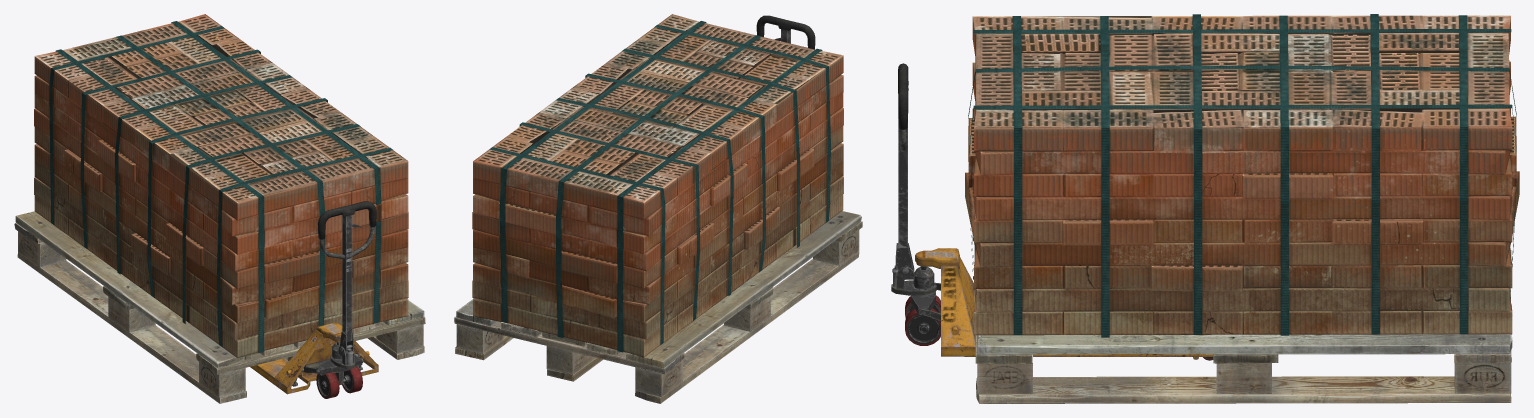
Rendered from XeGach.fbx.
The picture shows the model from 3 angles, left to right: view 1: azimuth 30°, elevation 25°; view 2: azimuth 150°, elevation 25°; view 3: azimuth 270°, elevation 25°; orthographic projection. The views are drawn at different scales.
Visible parts, largest first — view 1: model, pallet, defaultMaterial; view 2: model, pallet, defaultMaterial; view 3: model, pallet, defaultMaterial.
Boxes of the visible parts, x1,y1,x2,y2 form: model: (34,14,408,358); pallet: (14,211,425,403); defaultMaterial: (250,201,378,398); model: (472,14,843,357); pallet: (454,211,862,403); defaultMaterial: (756,15,815,49); model: (965,14,1519,337); pallet: (974,242,1512,403); defaultMaterial: (891,63,1213,360).
Size of what is drawn, in the model's own units: 146 by 132 by 281.
